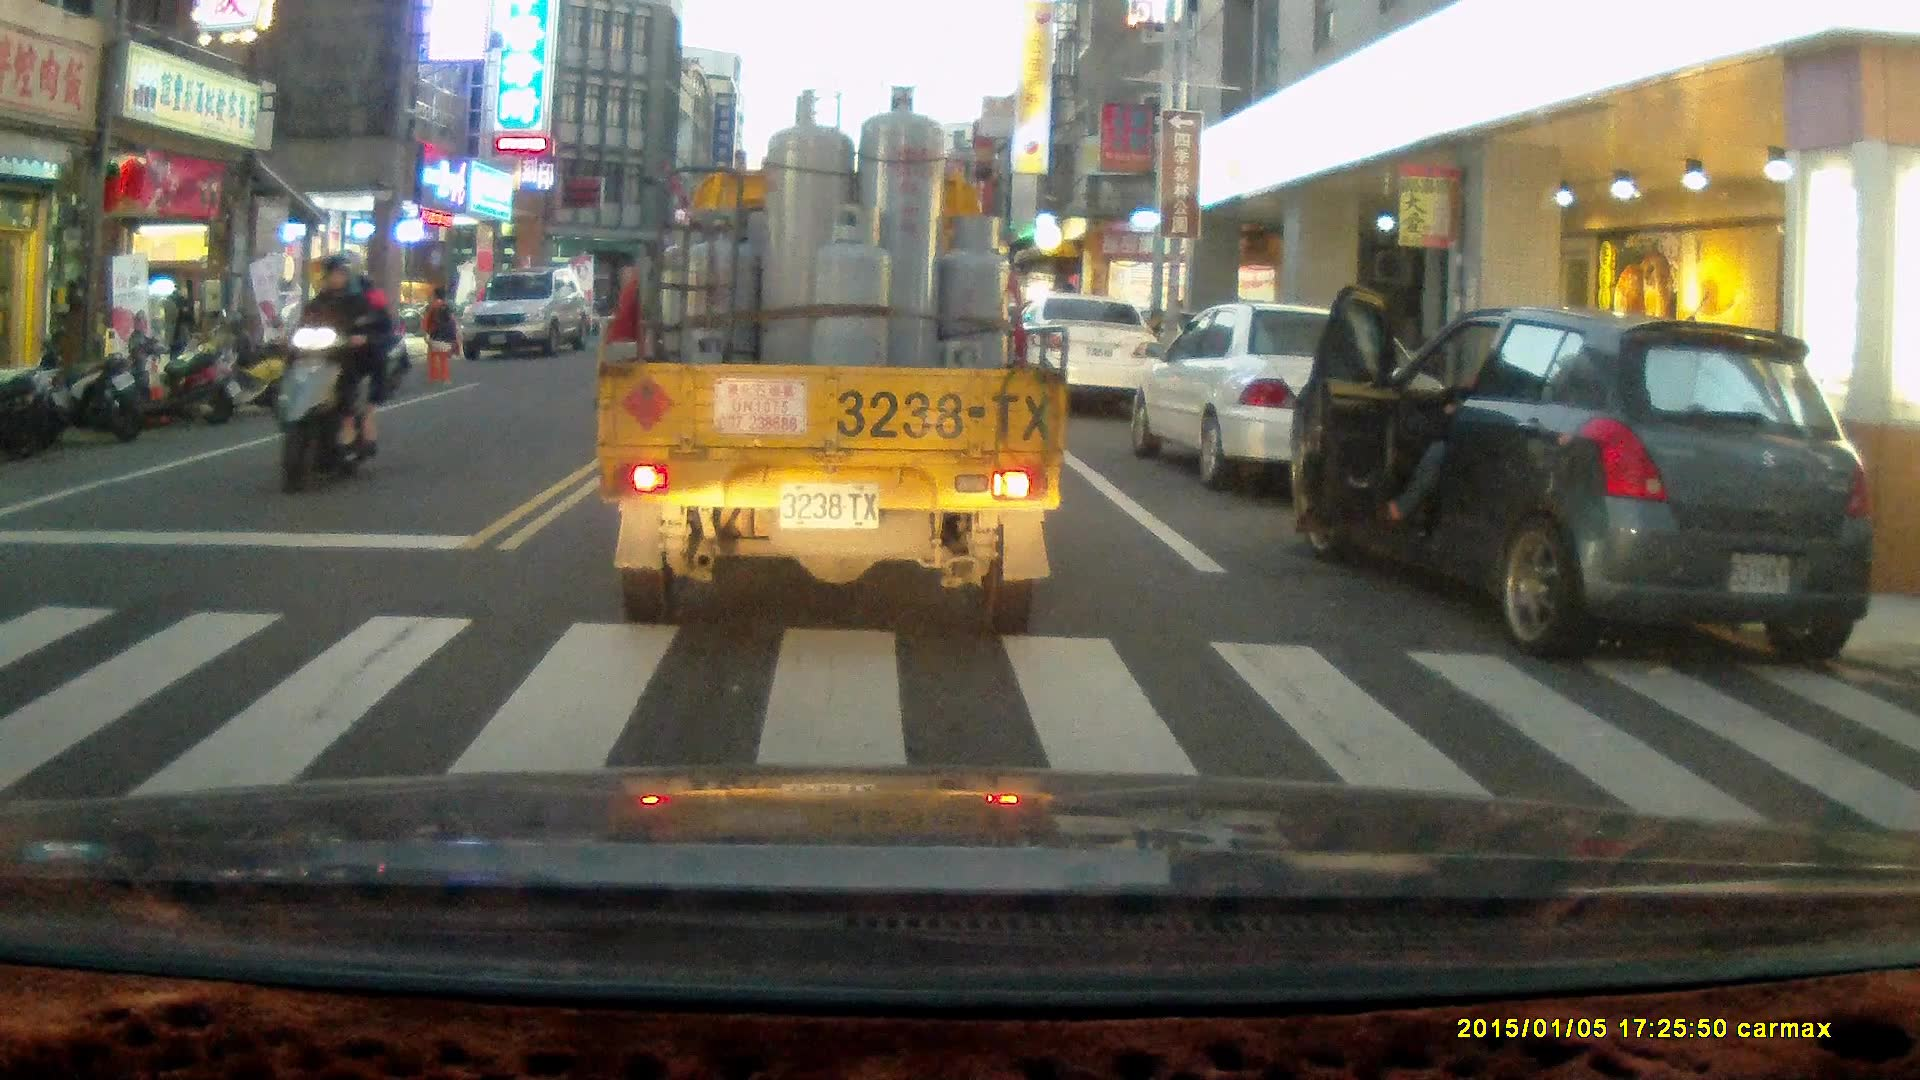pedestrian: (417, 285, 461, 385), (158, 281, 195, 393)
rider: (275, 253, 393, 491)
vehicle: (593, 77, 1069, 632), (1295, 312, 1874, 675), (1135, 306, 1444, 493), (1026, 295, 1160, 413), (459, 270, 592, 365)
